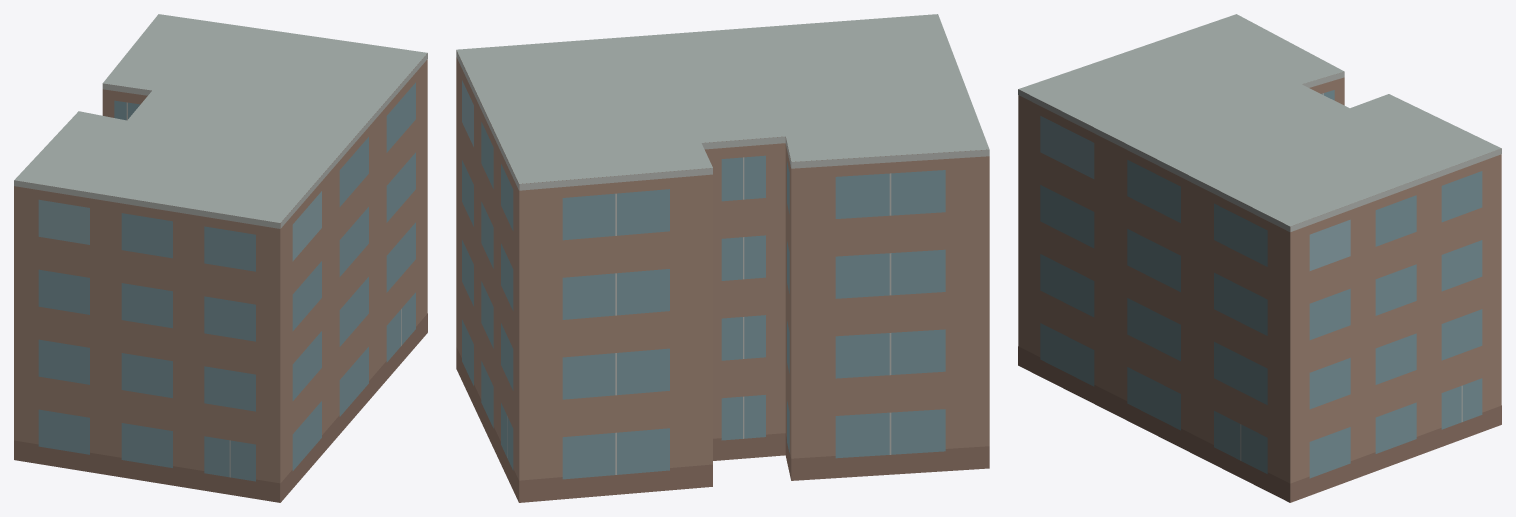
Rendered from survey-upis-32638013.glb.
3 renders of one model, left to right at view 1: azimuth 30°, elevation 25°; view 2: azimuth 150°, elevation 25°; view 3: azimuth 270°, elevation 25°, orthographic. The views are drawn at different scales.
Visible parts, largest first — view 1: survey-upis-32638013.tmp; view 2: survey-upis-32638013.tmp; view 3: survey-upis-32638013.tmp.
Boxes of the visible parts, left/top/right/bottom form: survey-upis-32638013.tmp: left=14, top=14, right=427, bottom=502; survey-upis-32638013.tmp: left=456, top=14, right=989, bottom=502; survey-upis-32638013.tmp: left=1018, top=14, right=1501, bottom=502.
Bounding box in the file's own units: 19.14 × 11.6 × 18.4.
